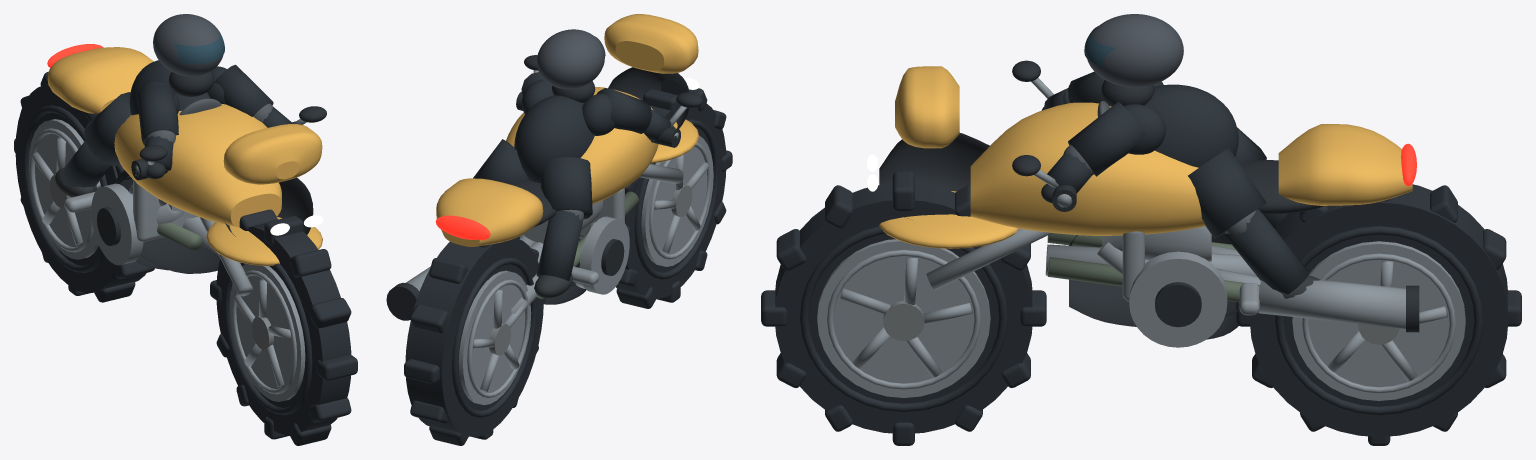
Rendered from bike_driftwood.glb.
3 views of the same model, side by side, from view 1: azimuth 30°, elevation 25°; view 2: azimuth 150°, elevation 25°; view 3: azimuth 270°, elevation 25° (orthographic). The views are drawn at different scales.
Parts seen in each view (by area): view 1: Blender Vehicle - Driftwood Scrambler.016 - Vehicle Body, WheelMesh_BikeWheel_Front_bike_driftwood.016, WheelMesh_BikeWheel_Rear_bike_driftwood.016; view 2: Blender Vehicle - Driftwood Scrambler.016 - Vehicle Body, WheelMesh_BikeWheel_Rear_bike_driftwood.016, WheelMesh_BikeWheel_Front_bike_driftwood.016; view 3: Blender Vehicle - Driftwood Scrambler.016 - Vehicle Body, WheelMesh_BikeWheel_Front_bike_driftwood.016, WheelMesh_BikeWheel_Rear_bike_driftwood.016.
Boxes of the visible parts, box(x1,y1,x2,y2) form: Blender Vehicle - Driftwood Scrambler.016 - Vehicle Body: box(47, 14, 326, 296); WheelMesh_BikeWheel_Front_bike_driftwood.016: box(210, 209, 357, 445); WheelMesh_BikeWheel_Rear_bike_driftwood.016: box(14, 72, 154, 302); Blender Vehicle - Driftwood Scrambler.016 - Vehicle Body: box(386, 14, 702, 320); WheelMesh_BikeWheel_Rear_bike_driftwood.016: box(404, 236, 545, 445); WheelMesh_BikeWheel_Front_bike_driftwood.016: box(616, 88, 732, 308); Blender Vehicle - Driftwood Scrambler.016 - Vehicle Body: box(867, 14, 1419, 347); WheelMesh_BikeWheel_Front_bike_driftwood.016: box(761, 171, 1046, 445); WheelMesh_BikeWheel_Rear_bike_driftwood.016: box(1236, 184, 1521, 445).
Size of the model in its own units: 1.16 by 2.07 by 3.41.
